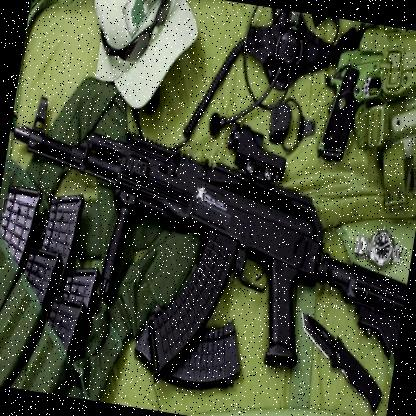rifle: (0, 88, 416, 416)
